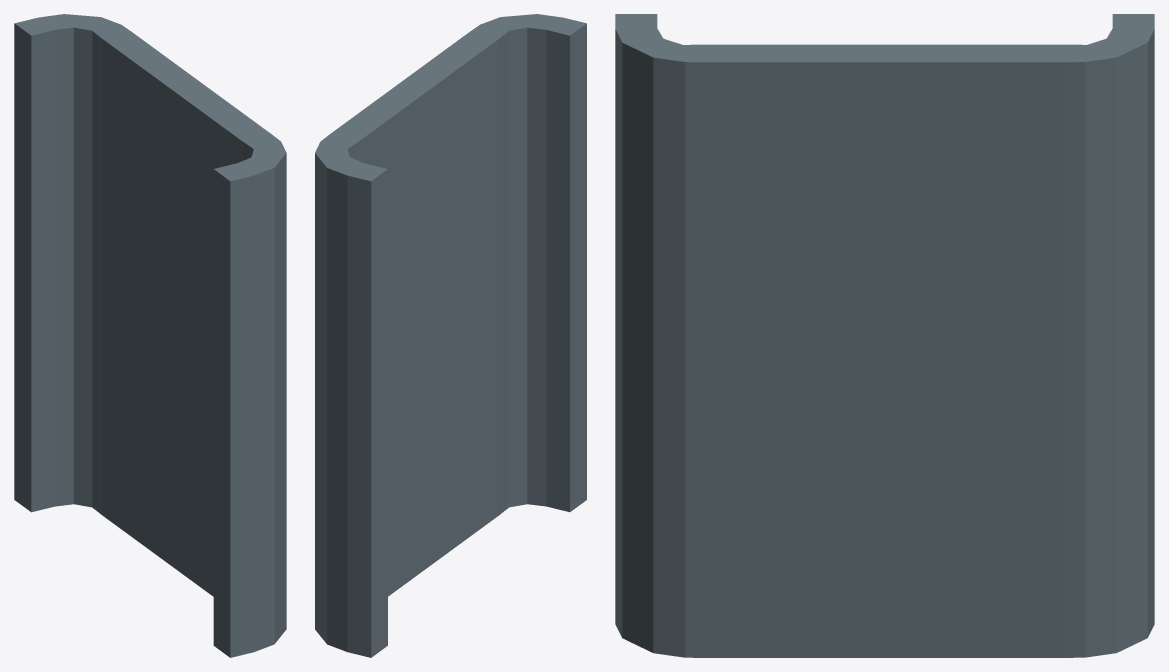
The model's file is Wall less weight.fbx.
3 views of the same model, side by side, from view 1: azimuth 30°, elevation 25°; view 2: azimuth 150°, elevation 25°; view 3: azimuth 270°, elevation 25° (orthographic). The views are drawn at different scales.
Visible parts, largest first — view 1: pCube332; view 2: pCube332; view 3: pCube332.
Boxes of the visible parts, x1,y1,x2,y2 form: pCube332: (14, 14, 286, 657); pCube332: (315, 14, 586, 657); pCube332: (615, 14, 1154, 657).
Bounding box in the file's own units: 24.2 × 139 × 114.
